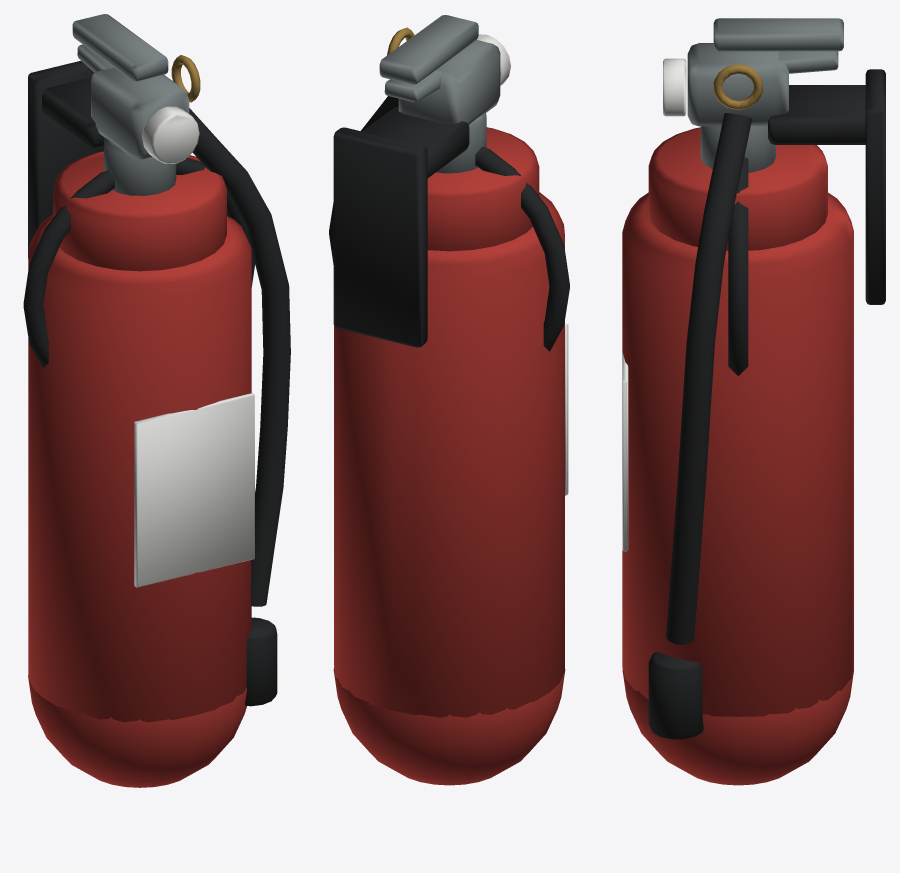
File: asset_091_fire_extinguisher.glb
The picture shows the model from 3 angles, left to right: view 1: azimuth 30°, elevation 25°; view 2: azimuth 150°, elevation 25°; view 3: azimuth 270°, elevation 25°; orthographic projection. The views are drawn at different scales.
Visible parts, largest first — view 1: MESH_ExtinguisherShell, MESH_ExtinguisherLabel, MESH_ExtinguisherShoulder, MESH_ExtinguisherHose, MESH_ExtinguisherBase, MESH_BracketPlate, MESH_ValveBody, MESH_BracketStrap, MESH_ValveCarryHandle, MESH_BracketArm, MESH_ExtinguisherNeck, MESH_ExtinguisherHorn (+2 smaller); view 2: MESH_ExtinguisherShell, MESH_BracketPlate, MESH_ExtinguisherBase, MESH_ExtinguisherShoulder, MESH_ValveBody, MESH_BracketStrap, MESH_ValveCarryHandle, MESH_BracketArm, MESH_ExtinguisherNeck, MESH_ValveSqueezeLever, MESH_ExtinguisherLabel, MESH_PressureGauge; view 3: MESH_ExtinguisherShell, MESH_ExtinguisherHose, MESH_ExtinguisherShoulder, MESH_ExtinguisherBase, MESH_ValveBody, MESH_BracketArm, MESH_BracketPlate, MESH_ValveCarryHandle, MESH_ExtinguisherHorn, MESH_BracketStrap, MESH_ExtinguisherNeck, MESH_PressureGauge (+3 smaller).
Part boxes in pixels (x1,y1,x2,y2): MESH_ExtinguisherShell: [28, 214, 251, 722]; MESH_ExtinguisherLabel: [134, 393, 254, 587]; MESH_ExtinguisherShoulder: [53, 151, 226, 271]; MESH_ExtinguisherHose: [189, 108, 290, 606]; MESH_ExtinguisherBase: [28, 675, 246, 787]; MESH_BracketPlate: [28, 60, 103, 258]; MESH_ValveBody: [91, 67, 189, 159]; MESH_BracketStrap: [23, 157, 255, 367]; MESH_ValveCarryHandle: [72, 14, 168, 81]; MESH_BracketArm: [42, 77, 104, 147]; MESH_ExtinguisherNeck: [104, 138, 176, 195]; MESH_ExtinguisherHorn: [245, 617, 277, 706]; MESH_ExtinguisherShell: [334, 192, 564, 717]; MESH_BracketPlate: [333, 127, 427, 347]; MESH_ExtinguisherBase: [333, 667, 565, 785]; MESH_ExtinguisherShoulder: [427, 127, 539, 251]; MESH_ValveBody: [398, 40, 500, 124]; MESH_BracketStrap: [329, 147, 569, 351]; MESH_ValveCarryHandle: [379, 15, 478, 84]; MESH_BracketArm: [362, 106, 469, 177]; MESH_ExtinguisherNeck: [436, 113, 486, 173]; MESH_ValveSqueezeLever: [384, 70, 443, 102]; MESH_ExtinguisherLabel: [565, 323, 568, 495]; MESH_PressureGauge: [477, 34, 510, 85]; MESH_ExtinguisherShell: [622, 192, 853, 716]; MESH_ExtinguisherHose: [666, 113, 751, 644]; MESH_ExtinguisherShoulder: [648, 127, 827, 250]; MESH_ExtinguisherBase: [622, 669, 853, 785]; MESH_ValveBody: [687, 43, 788, 126]; MESH_BracketArm: [768, 85, 865, 144]; MESH_BracketPlate: [865, 69, 885, 304]; MESH_ValveCarryHandle: [713, 18, 843, 51]; MESH_ExtinguisherHorn: [648, 652, 703, 739]; MESH_BracketStrap: [728, 157, 748, 375]; MESH_ExtinguisherNeck: [700, 125, 775, 172]; MESH_PressureGauge: [663, 58, 686, 116].
Bounding box in the file's own units: 0.2024 × 0.593 × 0.192.
